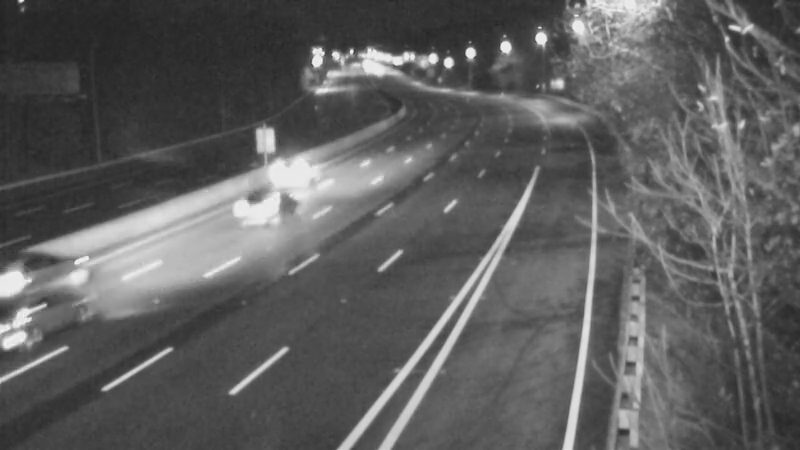vehicle: (1, 269, 105, 379), (254, 133, 334, 213), (224, 160, 304, 240), (1, 227, 78, 307)
